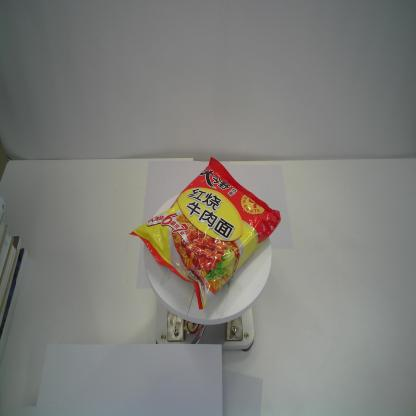Instant Noodles: (128, 156, 281, 311)
